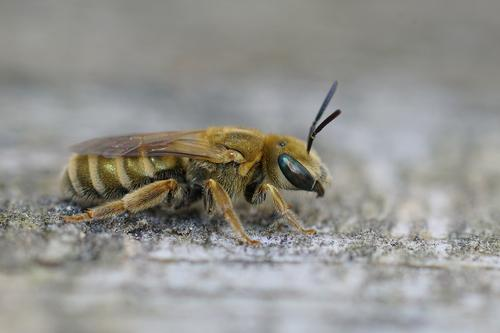Lasioglossum: (55, 90, 366, 268)
